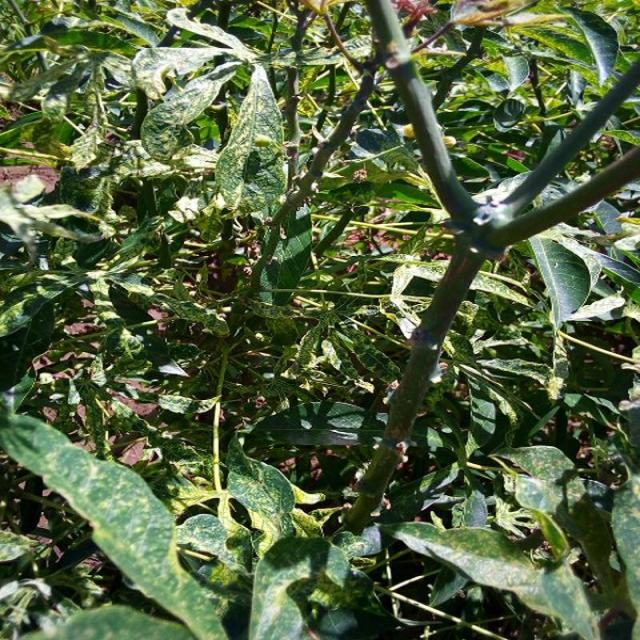cassava leaf: (0, 403, 230, 638), (379, 517, 601, 638), (213, 61, 287, 220)
